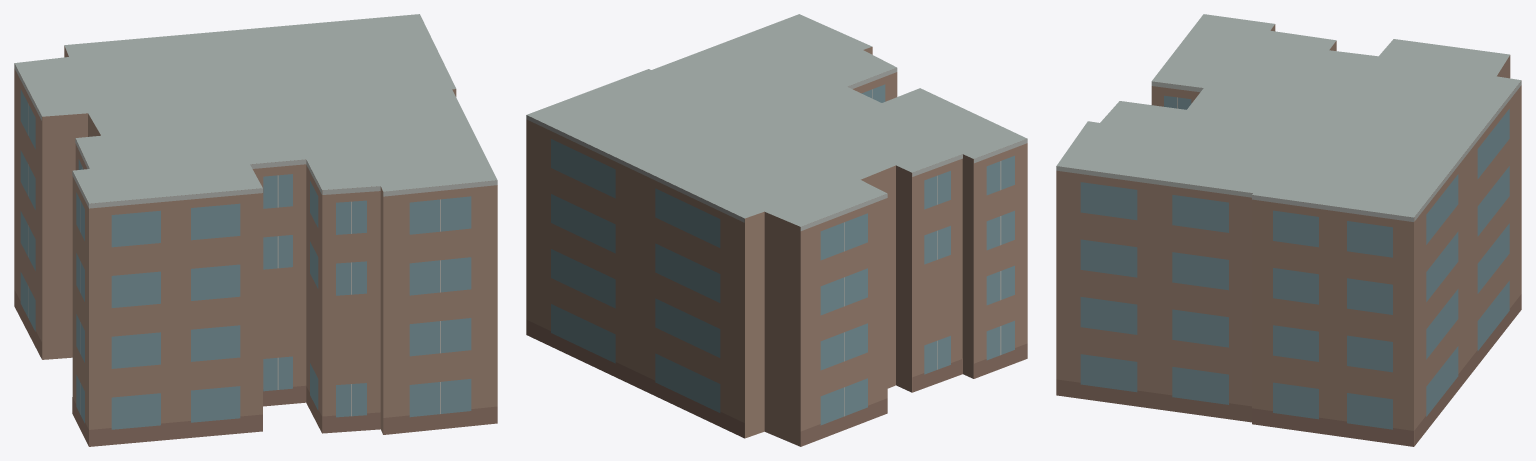
The model's file is survey-upis-33019493.glb.
The picture shows the model from 3 angles, left to right: view 1: azimuth 30°, elevation 25°; view 2: azimuth 150°, elevation 25°; view 3: azimuth 270°, elevation 25°; orthographic projection. The views are drawn at different scales.
Visible parts, largest first — view 1: survey-upis-33019493.tmp; view 2: survey-upis-33019493.tmp; view 3: survey-upis-33019493.tmp.
Part boxes in pixels (x1,y1,x2,y2): survey-upis-33019493.tmp: (14, 14, 497, 446); survey-upis-33019493.tmp: (526, 14, 1027, 446); survey-upis-33019493.tmp: (1056, 14, 1521, 446).
Size of the model in its own units: 23.04 by 12.1 by 22.26.
